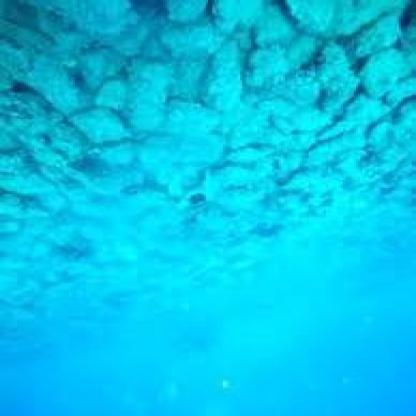tire: (174, 183, 244, 222)
